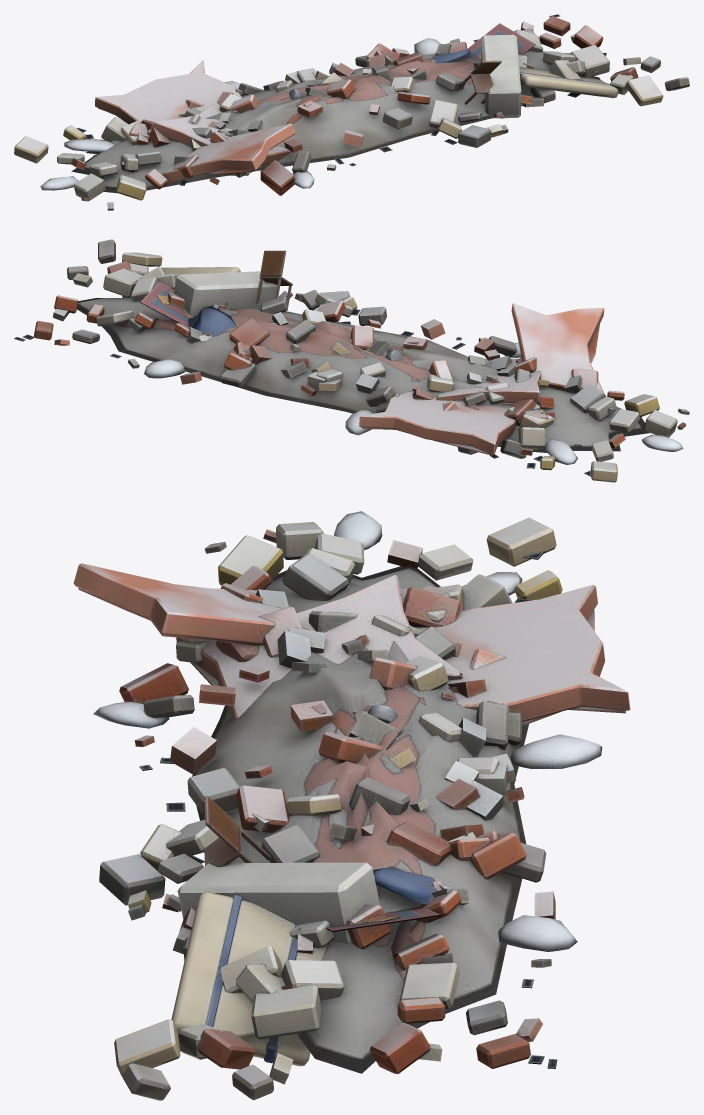
File: bld_rubble_spill.glb
3 renders of one model, top to bottom at view 1: azimuth 30°, elevation 25°; view 2: azimuth 150°, elevation 25°; view 3: azimuth 270°, elevation 25°, orthographic. The views are drawn at different scales.
Visible parts, largest first — view 1: bld_rubble_spill; view 2: bld_rubble_spill; view 3: bld_rubble_spill.
Part boxes in pixels (x1,y1,x2,y2): bld_rubble_spill: (14, 14, 689, 210); bld_rubble_spill: (14, 239, 689, 482); bld_rubble_spill: (73, 511, 630, 1100).
Bounding box in the file's own units: 12.47 × 1.45 × 5.07.
1 material, 1 textured.
